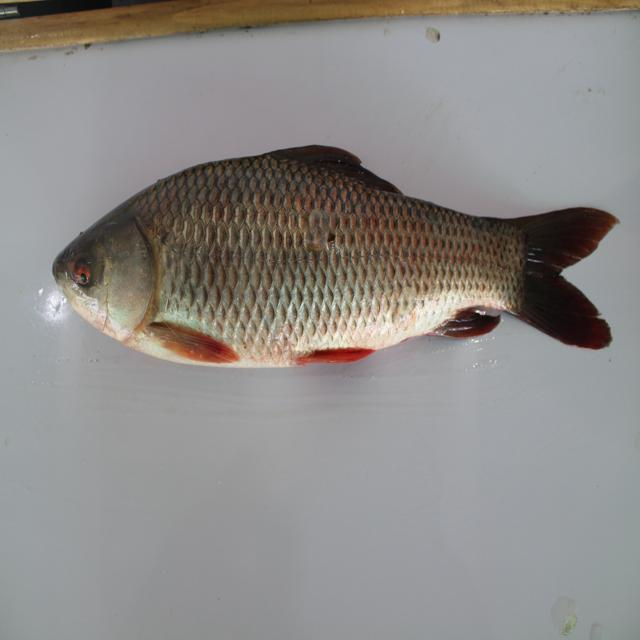Rohu: (36, 136, 622, 381)
